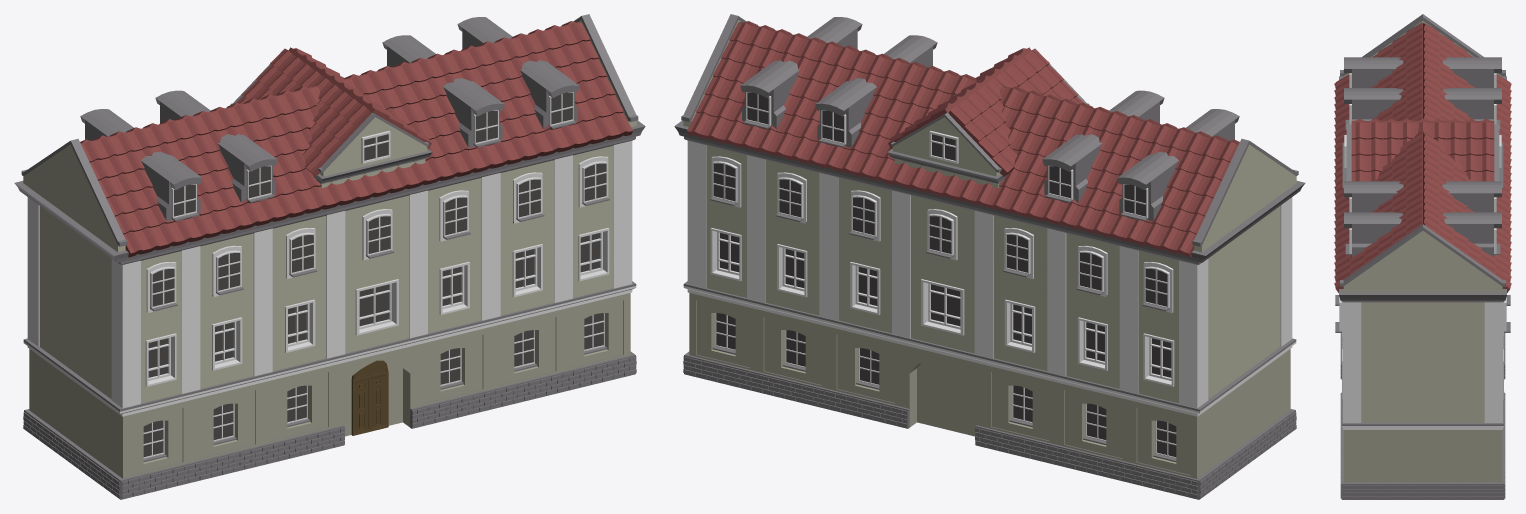
Rendered from quaternius_cc0-large-building-741.glb.
3 views of the same model, side by side, from view 1: azimuth 30°, elevation 25°; view 2: azimuth 150°, elevation 25°; view 3: azimuth 270°, elevation 25° (orthographic). The views are drawn at different scales.
Parts seen in each view (by area): view 1: Building1_Large; view 2: Building1_Large; view 3: Building1_Large.
Part boxes in pixels (<box>): Building1_Large: <box>14,14,645,499</box>; Building1_Large: <box>674,14,1305,499</box>; Building1_Large: <box>1334,14,1511,499</box>.
Size of the model in its own units: 7.99 by 4.67 by 2.74.
1 material, 1 textured.
